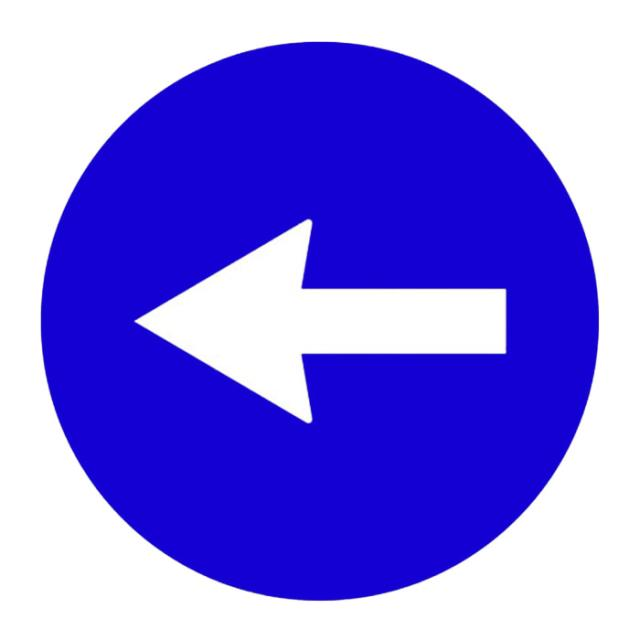SensObligatoire: (38, 39, 602, 604)
